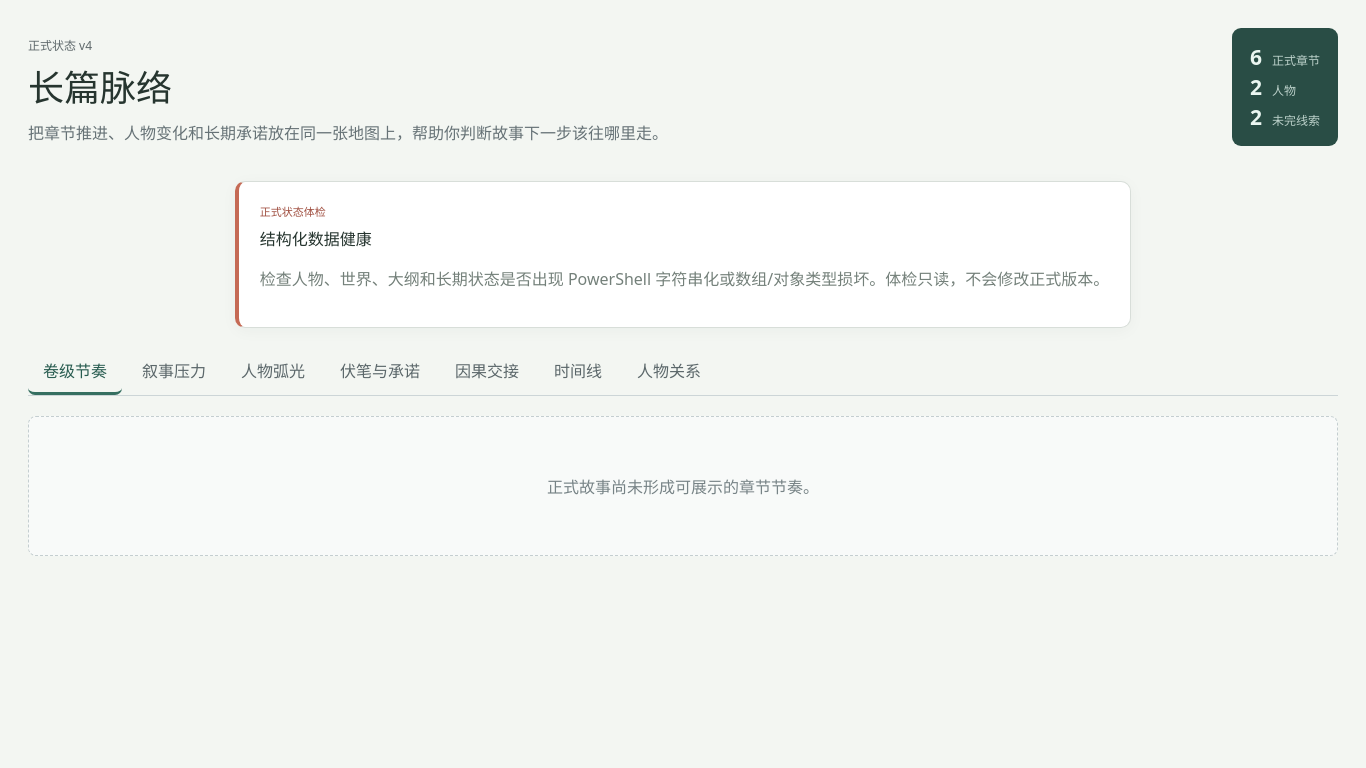
LongformWorkspace continuity views › filters lifecycle evidence and presents causal advice without forced witnesses
This screenshot has width=1366, height=768.
Expected: the heading "长篇脉络" is shown, [28,63,172,112]
Step 1. Click the button "伏笔与承诺" → (380, 372), box [325,348,435,395]
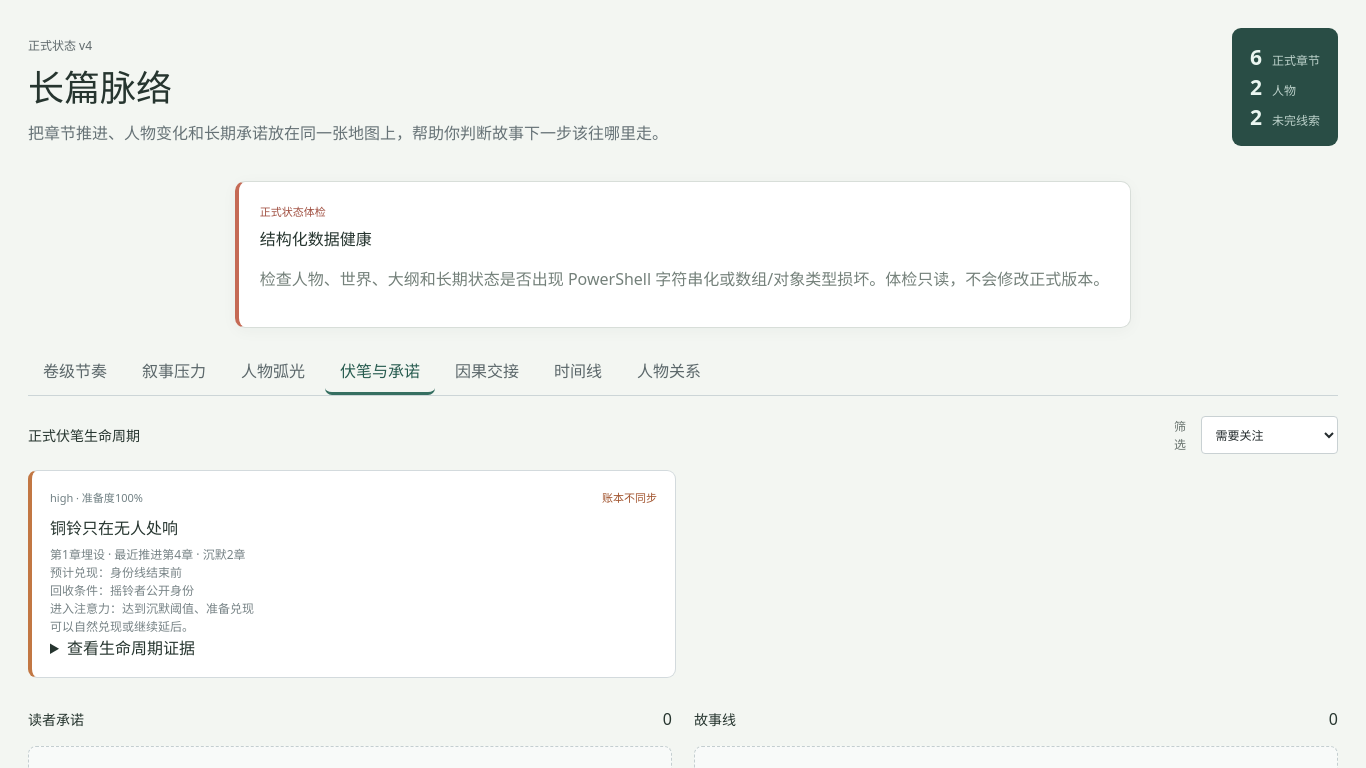
Result: the heading "铜铃只在无人处响" is shown at [50,517,178,539]
Result: the text "账本不同步" is shown 2 times
Result: the text "预计兑现：身份线结束前" is shown at [50,564,182,581]
Step 2. Select "已回收" in the dropdown named "伏笔筛选" → (1270, 435), box [1201,416,1338,454]
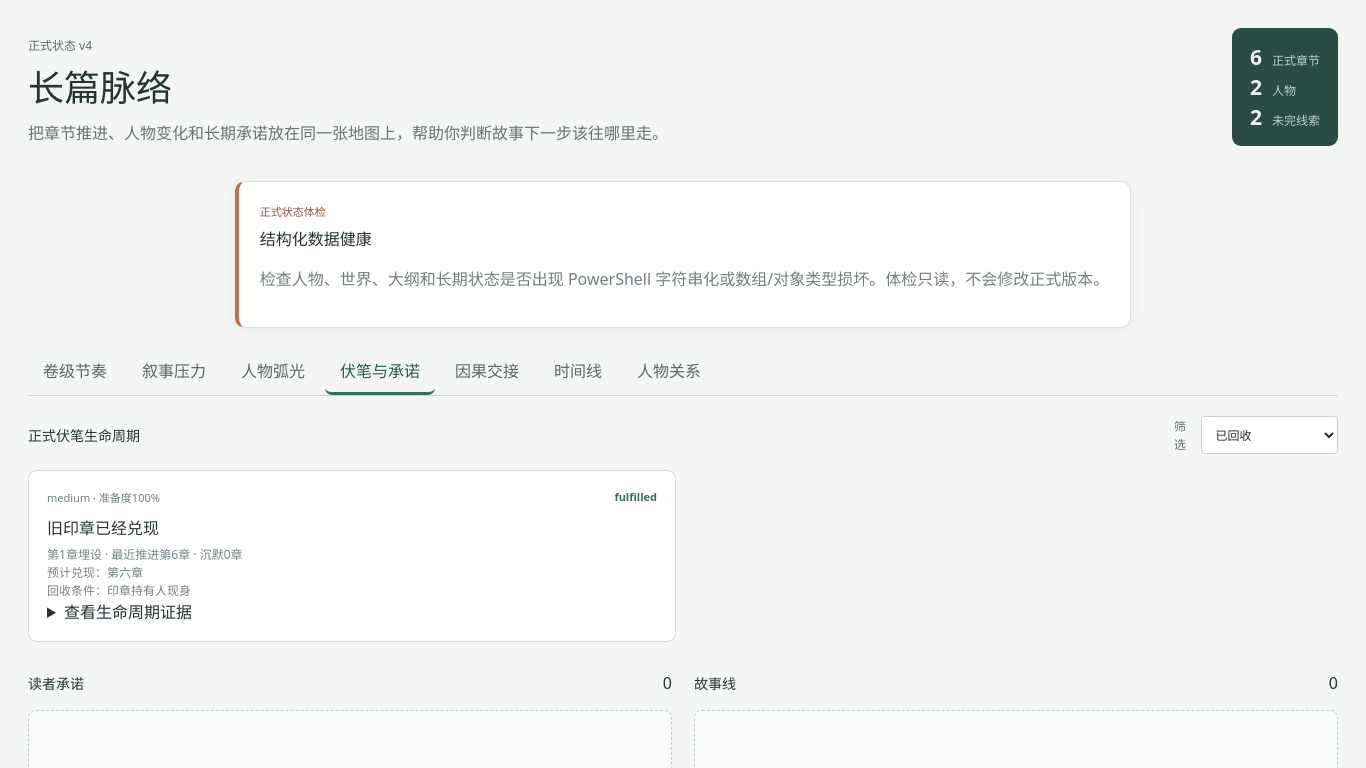
Result: the heading "旧印章已经兑现" is shown at [47,517,159,539]
Result: the heading "铜铃只在无人处响" is gone
Step 3. Click the button "因果交接" → (487, 372), box [440,348,534,395]
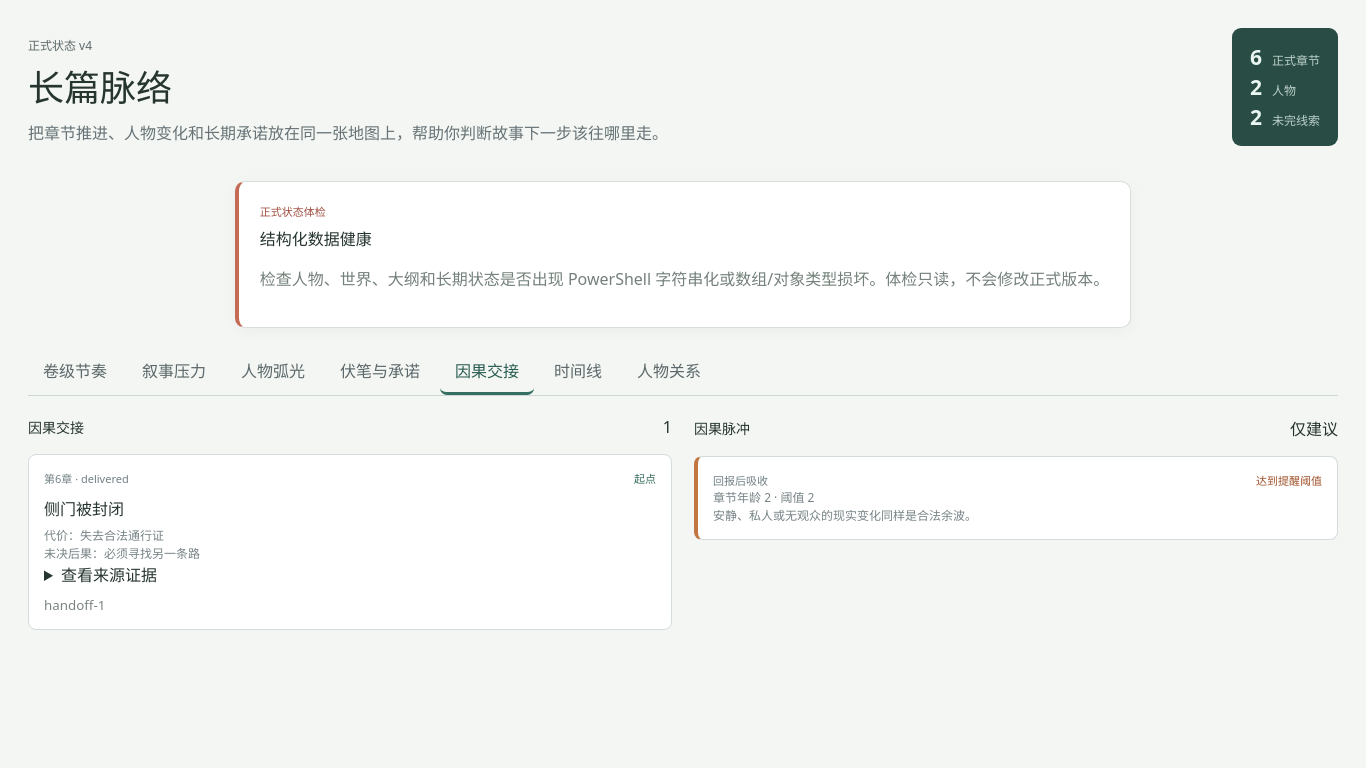
Result: the heading "侧门被封闭" is shown at [44,498,124,520]
Result: the text "未决后果：必须寻找另一条路" is shown at [44,545,200,562]
Result: the text "回报后吸收" is shown at [713,472,768,488]
